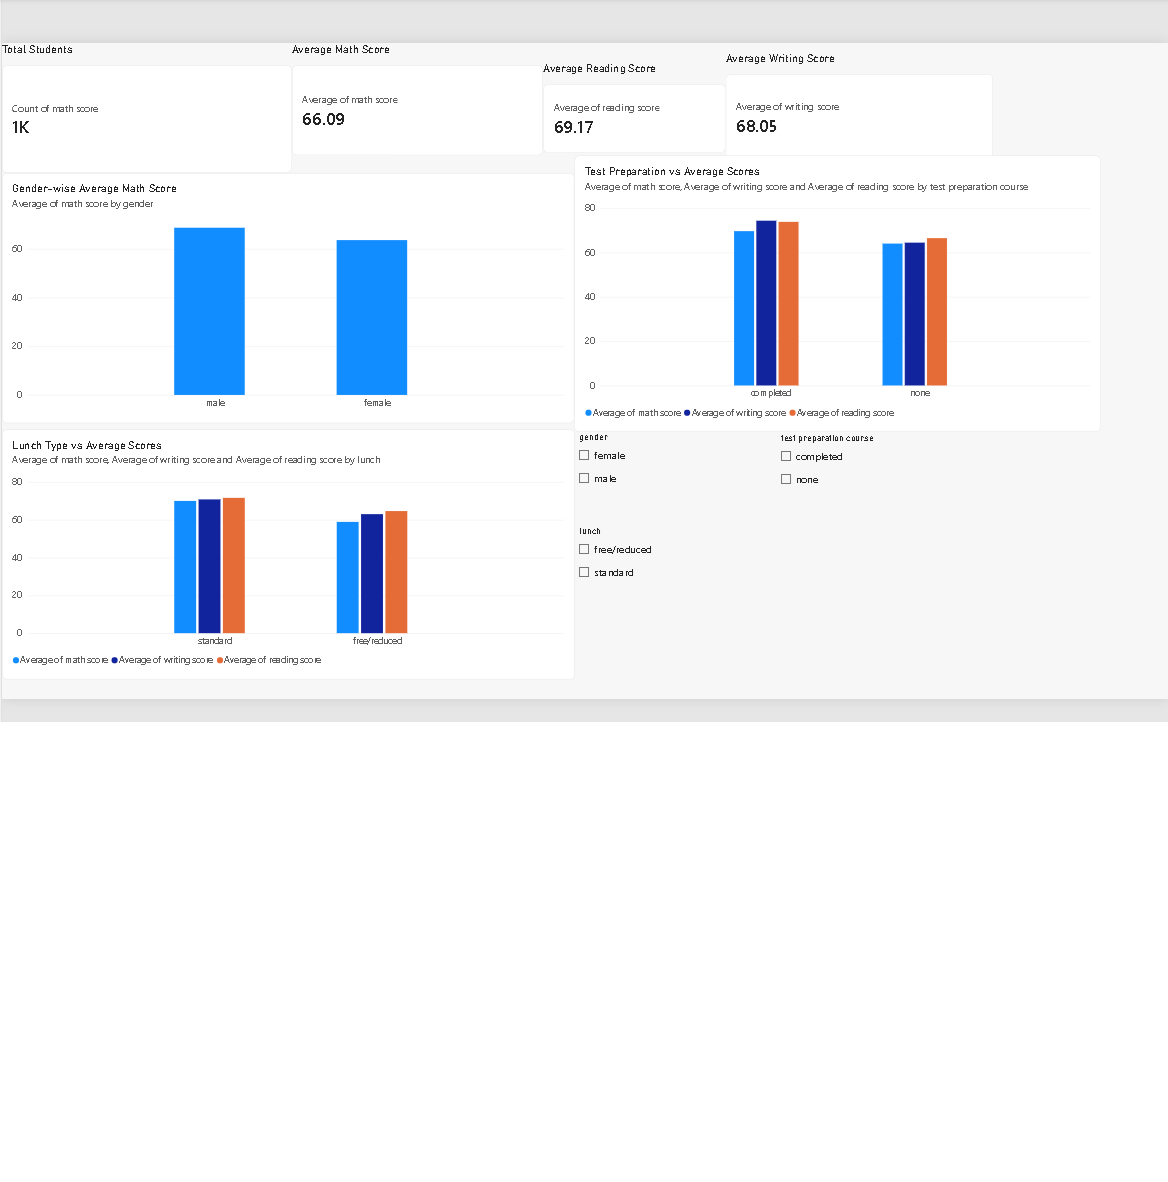

The page's visual inventory and layout, read from the dashboard file:
{"tool":"powerbi","page":{"name":"Page 1","canvas":[1920,1080],"ordinal":0},"visuals":[{"type":"cardVisual","title":"Total Students","fields":{"Data":["CountNonNull(Cleaned_StudentsPerformance.math score)"]},"box":[0,0,477.5,214.1],"z":0},{"type":"cardVisual","title":"Average Math Score","fields":{"Data":["Avg(Cleaned_StudentsPerformance.math score)"]},"box":[477.5,0,413.7,185.2],"z":1},{"type":"cardVisual","title":"Average Reading Score","fields":{"Data":["Avg(Cleaned_StudentsPerformance.reading score)"]},"box":[891.3,30.9,300,150],"z":2},{"type":"cardVisual","title":"Average Writing Score","fields":{"Data":["Avg(Cleaned_StudentsPerformance.writing score)"]},"box":[1191.8,14.4,440.5,179.1],"z":3},{"type":"clusteredColumnChart","title":"Gender-wise Average Math Score","fields":{"Category":["Cleaned_StudentsPerformance.gender"],"Y":["Avg(Cleaned_StudentsPerformance.math score)"]},"box":[0,214.1,942.7,411.7],"z":4},{"type":"clusteredColumnChart","title":"Test Preparation vs Average Scores","fields":{"Category":["Cleaned_StudentsPerformance.test preparation course"],"Y":["Avg(Cleaned_StudentsPerformance.math score)","Avg(Cleaned_StudentsPerformance.writing score)","Avg(Cleaned_StudentsPerformance.reading score)"]},"box":[942.7,185.2,866.6,454.9],"z":5},{"type":"clusteredColumnChart","title":"Lunch Type vs Average Scores","fields":{"Category":["Cleaned_StudentsPerformance.lunch"],"Y":["Avg(Cleaned_StudentsPerformance.math score)","Avg(Cleaned_StudentsPerformance.writing score)","Avg(Cleaned_StudentsPerformance.reading score)"]},"box":[0,636,943,412],"z":6},{"type":"slicer","fields":{"Values":["Cleaned_StudentsPerformance.gender"]},"box":[942.7,640.1,292.3,154.4],"z":7},{"type":"slicer","fields":{"Values":["Cleaned_StudentsPerformance.lunch"]},"box":[942.7,794.5,249.1,158.5],"z":8},{"type":"slicer","fields":{"Values":["Cleaned_StudentsPerformance.test preparation course"]},"box":[1274.1,642.2,306.7,154.4],"z":9}]}

Visuals, with their boxes on the page's 1920x1080 design canvas (x1, y1, x2, y2). These are canvas units, not pixel positions in the 1168x1182 screenshot, which may show the page scaled, cropped or inside an application window:
"Total Students" cardVisual: 0/0/478/214
"Average Math Score" cardVisual: 478/0/891/185
"Average Reading Score" cardVisual: 891/31/1191/181
"Average Writing Score" cardVisual: 1192/14/1632/194
"Gender-wise Average Math Score" clusteredColumnChart: 0/214/943/626
"Test Preparation vs Average Scores" clusteredColumnChart: 943/185/1809/640
"Lunch Type vs Average Scores" clusteredColumnChart: 0/636/943/1048
slicer - Cleaned_StudentsPerformance.gender: 943/640/1235/794
slicer - Cleaned_StudentsPerformance.lunch: 943/794/1192/953
slicer - Cleaned_StudentsPerformance.test preparation course: 1274/642/1581/797
